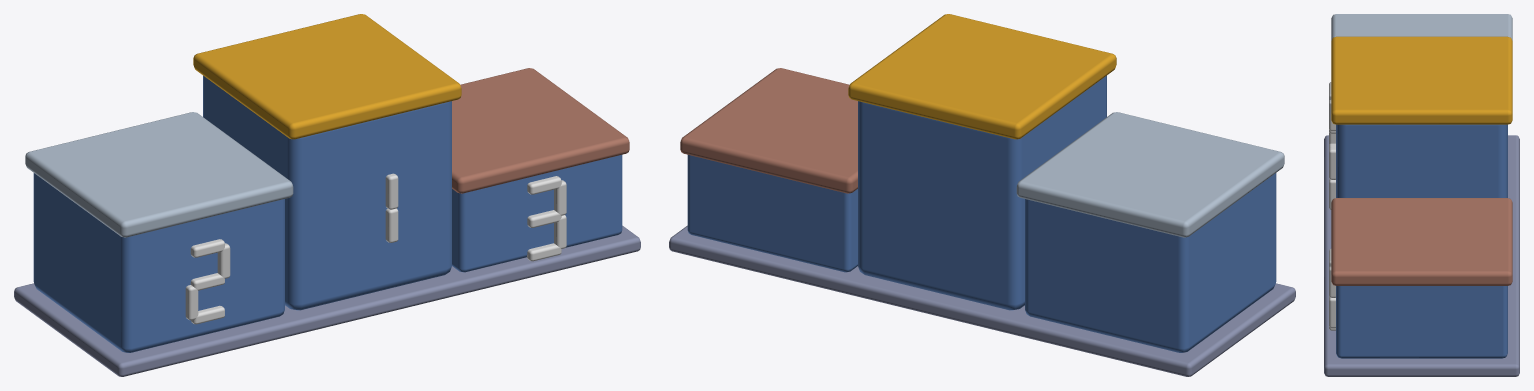
The model's file is podio.glb.
3 renders of one model, left to right at view 1: azimuth 30°, elevation 25°; view 2: azimuth 150°, elevation 25°; view 3: azimuth 270°, elevation 25°, orthographic. The views are drawn at different scales.
Visible parts, largest first — view 1: modelo; view 2: modelo; view 3: modelo.
Part boxes in pixels (x1,y1,x2,y2): modelo: [14, 14, 640, 376]; modelo: [669, 14, 1295, 376]; modelo: [1324, 14, 1519, 376].
Bounding box in the file's own units: 9.62 × 3.66 × 3.43.
